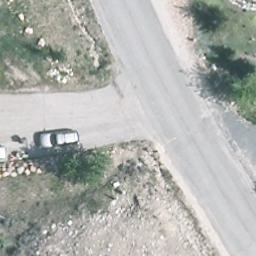car: (0, 147, 7, 161)
pickup: (39, 131, 82, 149)
